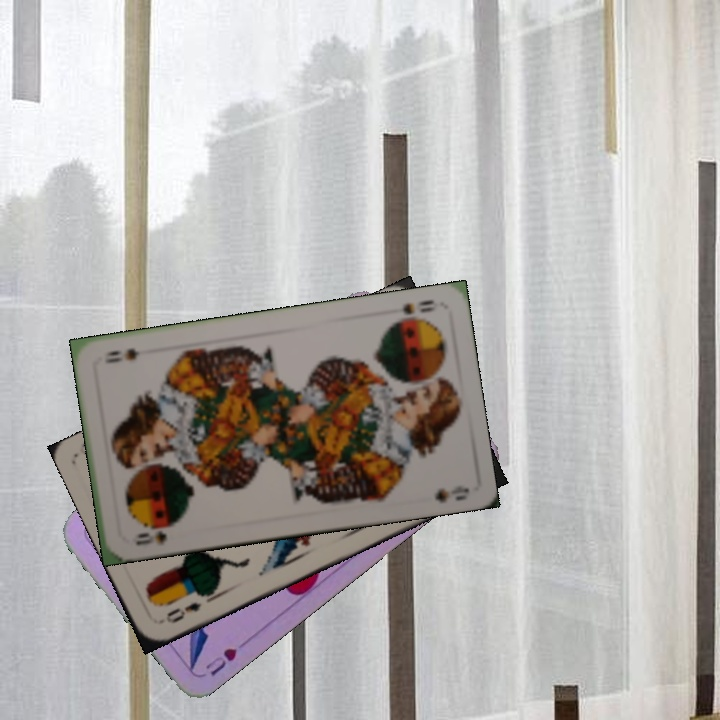EO: (161, 598, 204, 626)
HU: (201, 643, 240, 678)
SO: (398, 295, 442, 317), (131, 526, 170, 548)
